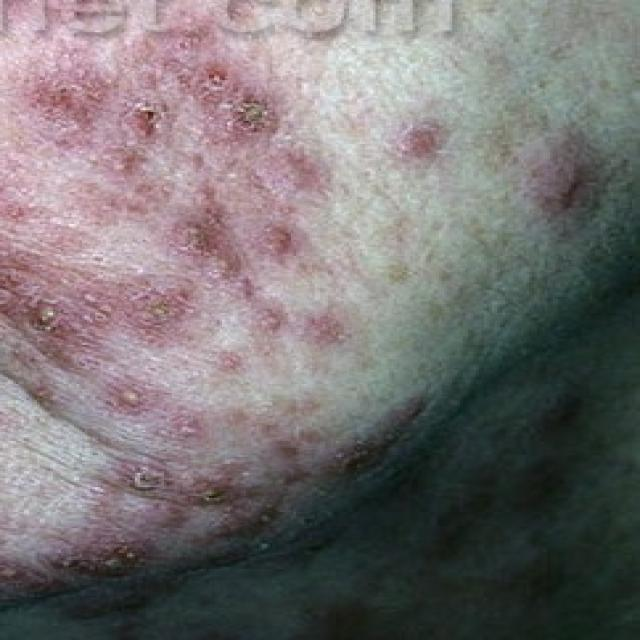Rosacea: (18, 54, 304, 402)
